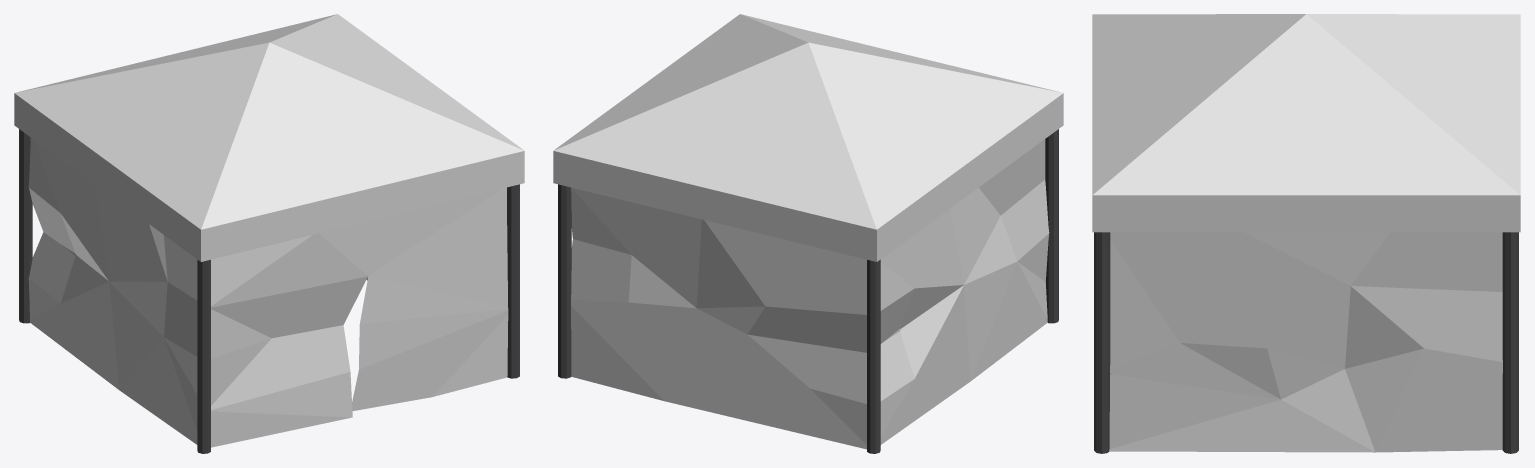
The model's file is tent.fbx.
The picture shows the model from 3 angles, left to right: view 1: azimuth 30°, elevation 25°; view 2: azimuth 150°, elevation 25°; view 3: azimuth 270°, elevation 25°; orthographic projection. The views are drawn at different scales.
Parts seen in each view (by area): view 1: Cube; view 2: Cube; view 3: Cube.
Part boxes in pixels (x1=…): Cube: x1=14, y1=14, x2=524, y2=453; Cube: x1=553, y1=14, x2=1063, y2=453; Cube: x1=1092, y1=14, x2=1520, y2=453.
Bounding box in the file's own units: 524 × 473 × 524.
